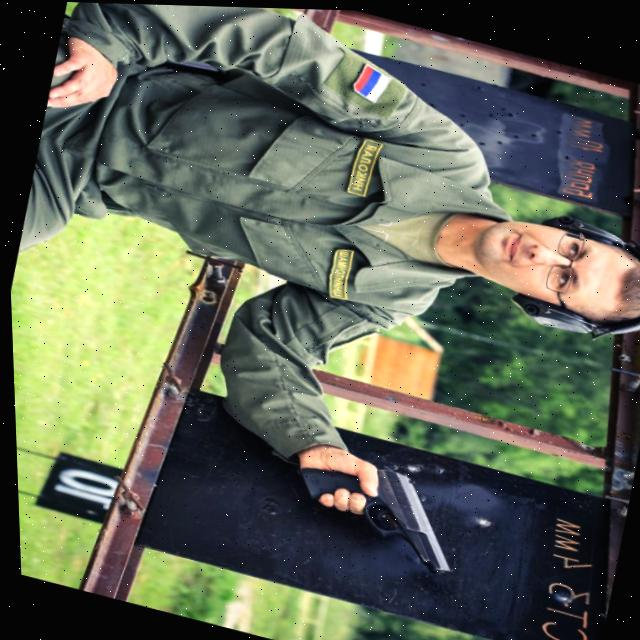pistol: (347, 455, 469, 576)
